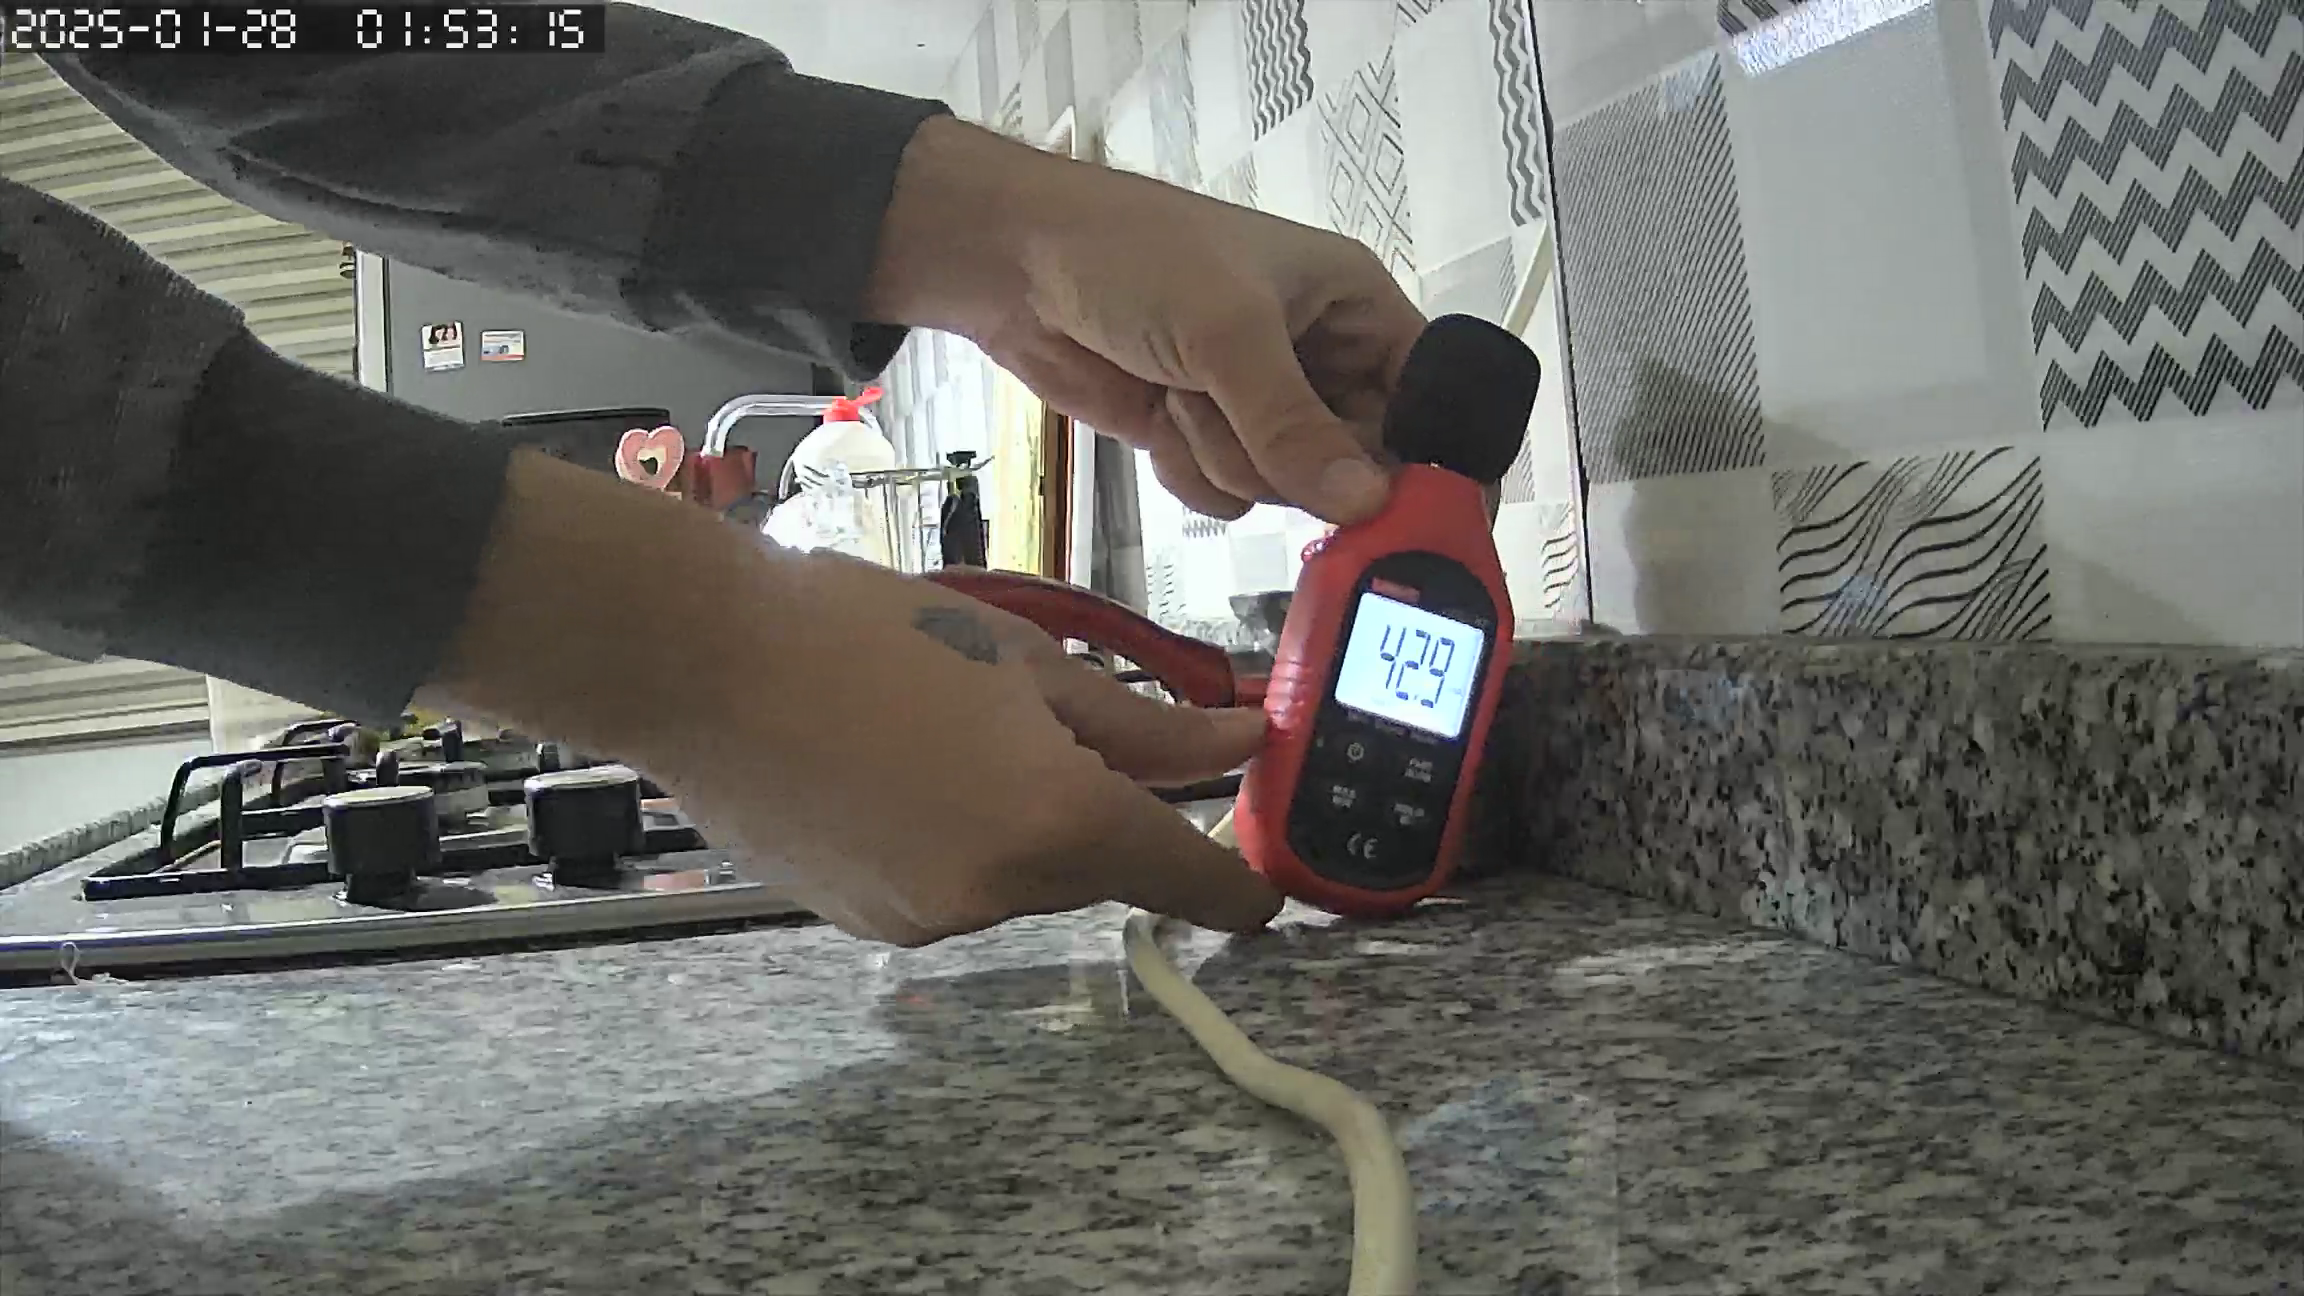screen: (1336, 593, 1483, 739)
